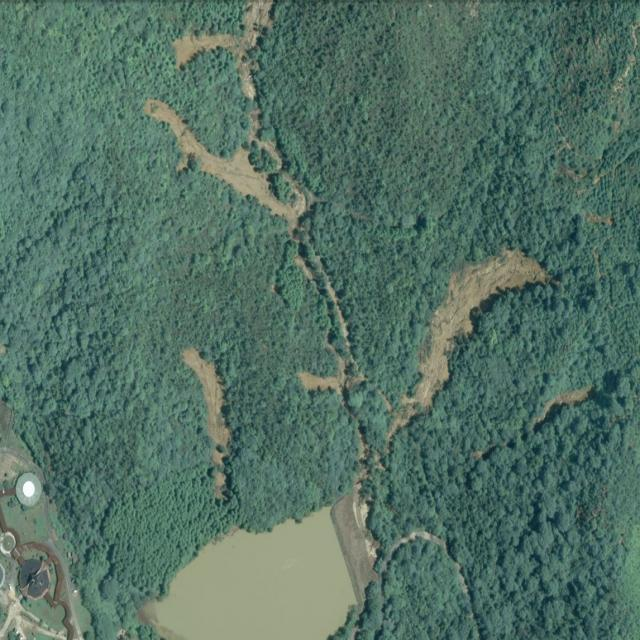landslide: (388, 248, 553, 441), (144, 98, 304, 224), (183, 347, 231, 499), (172, 1, 271, 69), (242, 72, 255, 97)
